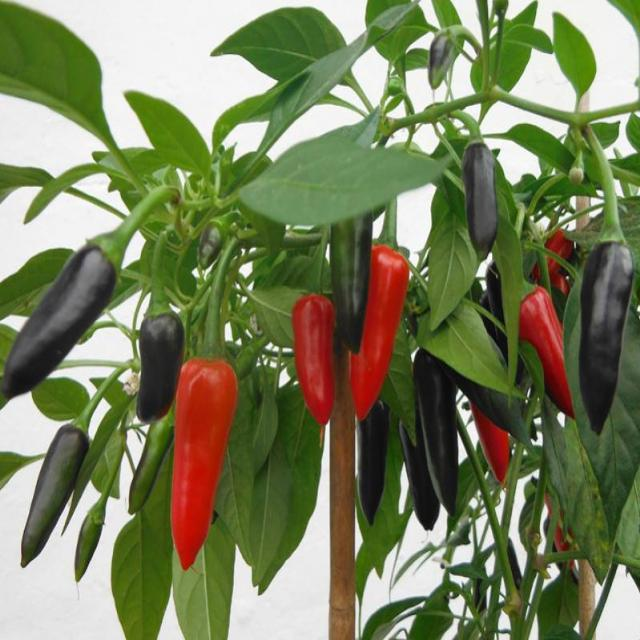chilli: (171, 351, 239, 582), (292, 284, 337, 430)
